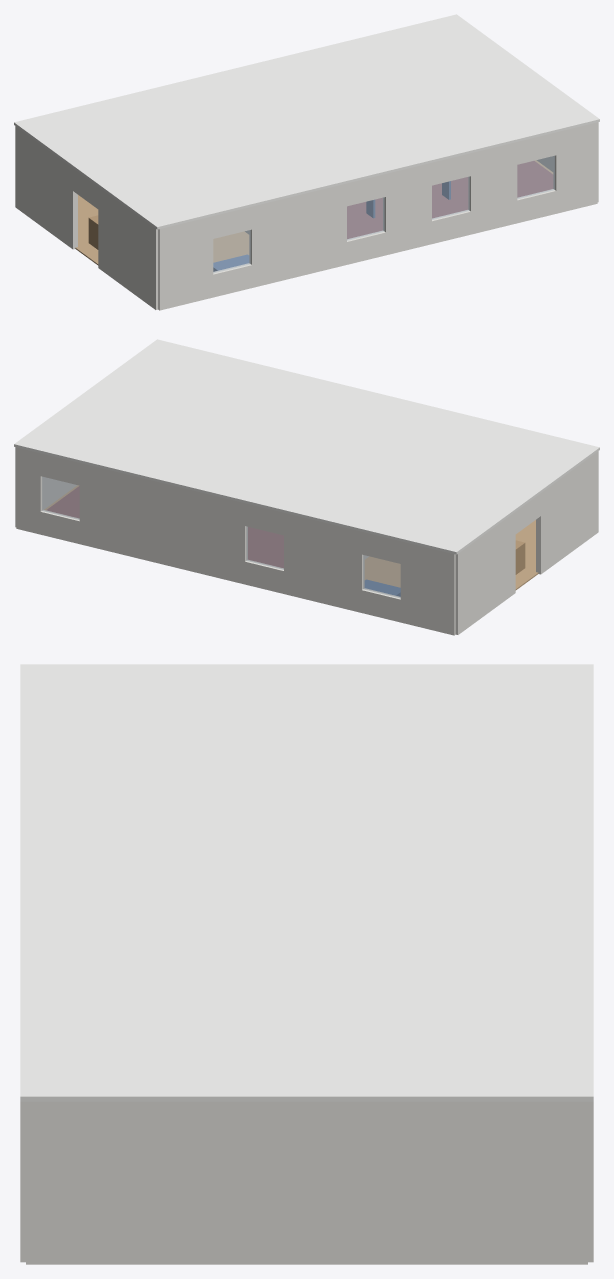
The model's file is townhall.glb.
3 renders of one model, top to bottom at view 1: azimuth 30°, elevation 25°; view 2: azimuth 150°, elevation 25°; view 3: azimuth 270°, elevation 25°, orthographic. The views are drawn at different scales.
Bounding box in the file's own units: 18.2 × 3.3 × 10.2.
